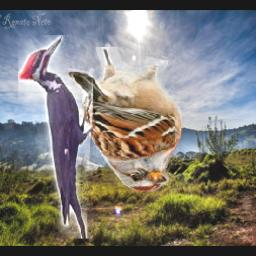Sparrow: (68, 48, 183, 192)
Woodpecker: (18, 36, 93, 239)
